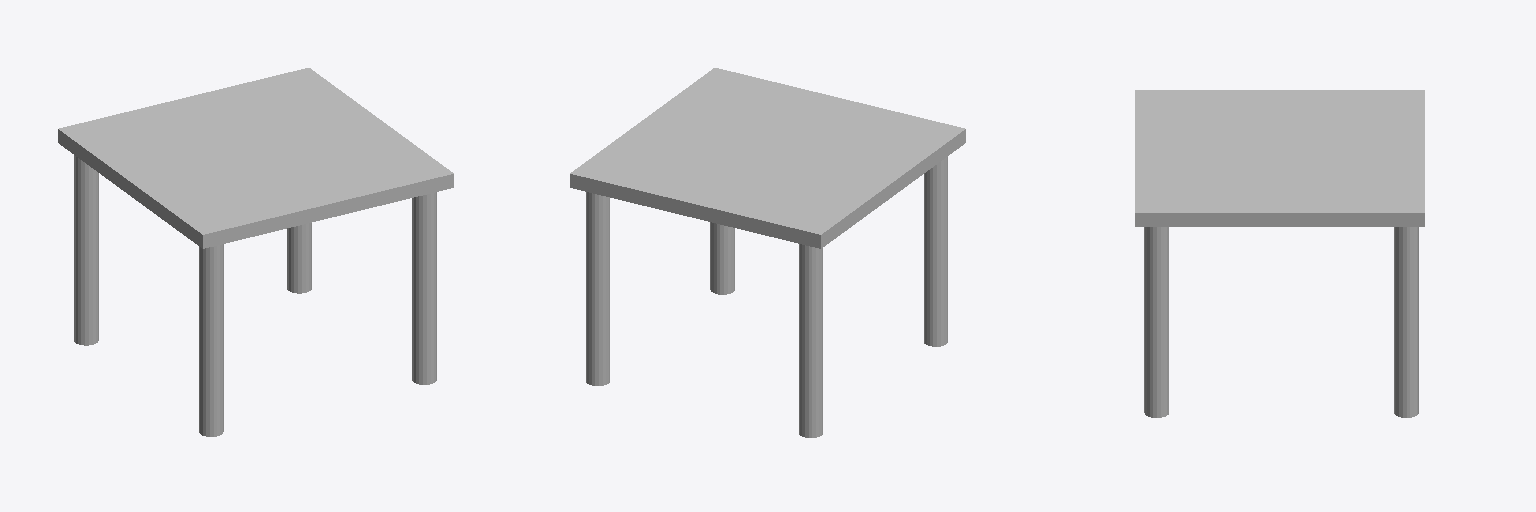
Rendered from Table.obj.
3 views of the same model, side by side, from view 1: azimuth 30°, elevation 25°; view 2: azimuth 150°, elevation 25°; view 3: azimuth 270°, elevation 25° (orthographic).
Visible parts, largest first — view 1: pCylinder5; view 2: pCylinder5; view 3: pCylinder5.
Boxes of the visible parts, box(x1,y1,x2,y2) form: pCylinder5: box(58, 68, 453, 436); pCylinder5: box(570, 68, 965, 437); pCylinder5: box(1135, 90, 1424, 417).
Size of the model in its own units: 32.09 by 25.57 by 32.09.